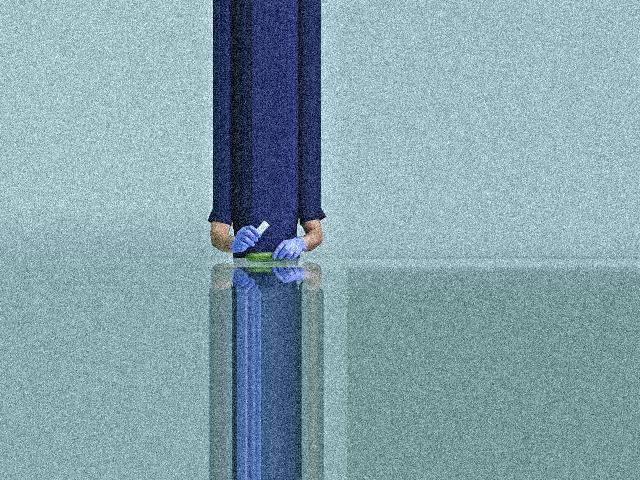cucumber: (244, 252, 284, 262)
